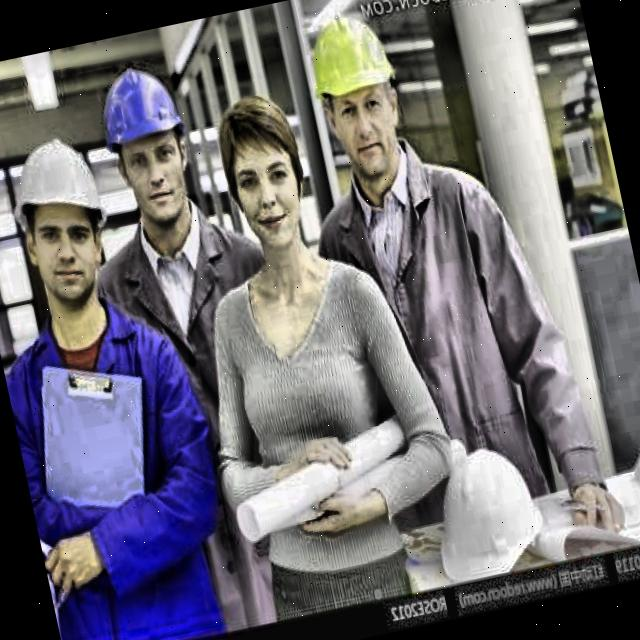helmet: (0, 109, 139, 333), (292, 0, 433, 205), (85, 34, 211, 244)
